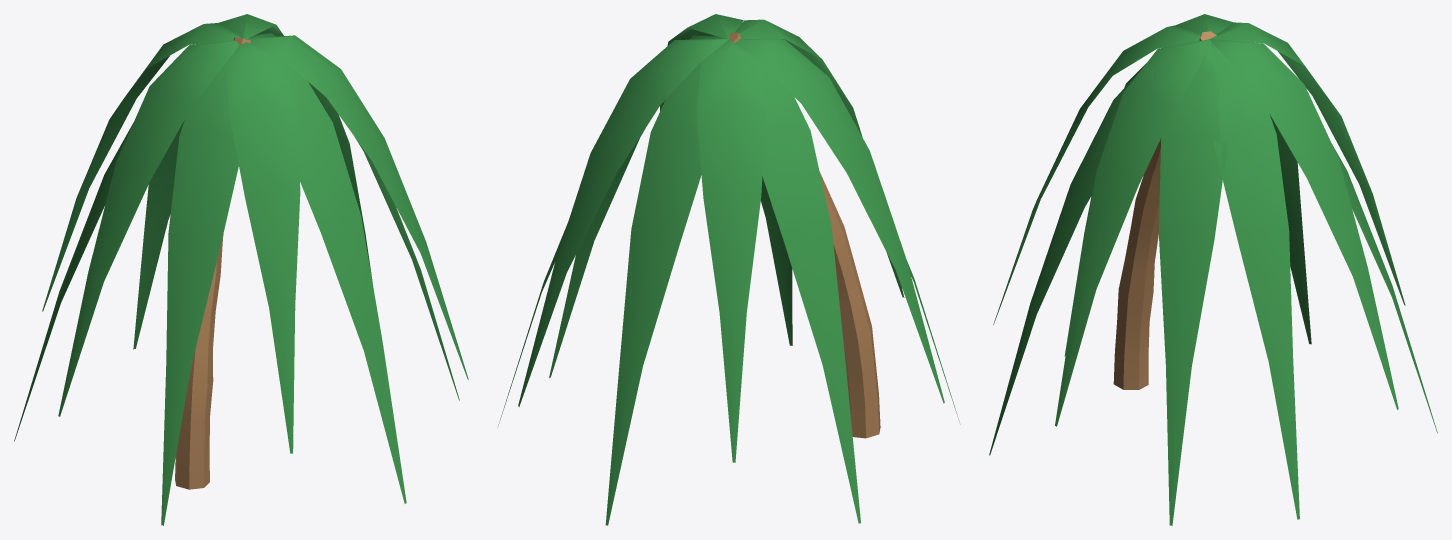
Rendered from palm_coconut.glb.
3 views of the same model, side by side, from view 1: azimuth 30°, elevation 25°; view 2: azimuth 150°, elevation 25°; view 3: azimuth 270°, elevation 25° (orthographic). The views are drawn at different scales.
Visible parts, largest first — view 1: palm_coconut; view 2: palm_coconut; view 3: palm_coconut.
Part boxes in pixels (x1,y1,x2,y2): palm_coconut: (14,14,468,525); palm_coconut: (498,14,960,525); palm_coconut: (989,14,1437,525).
Size of the model in its own units: 6.54 by 6.36 by 6.5.
